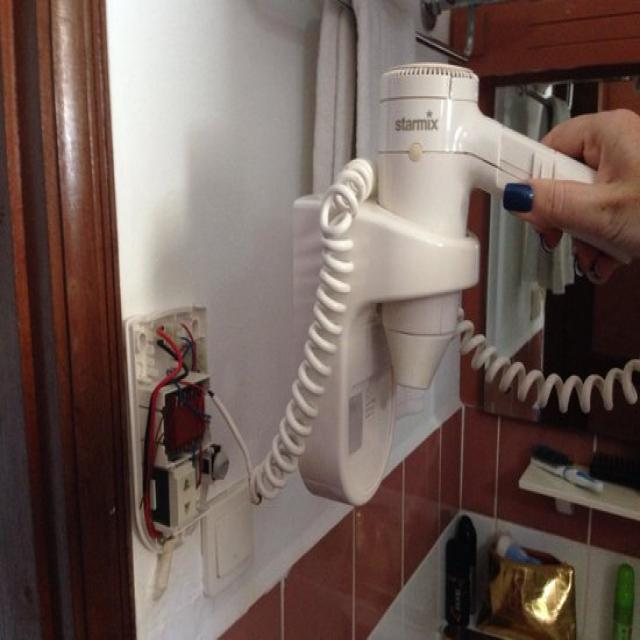dryer: (272, 34, 614, 526), (354, 59, 590, 426)
